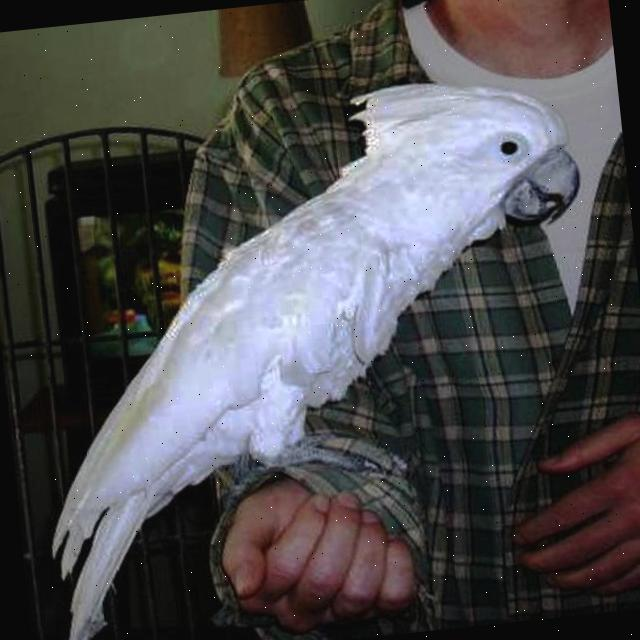Kakatua Putih: (0, 35, 639, 640)
